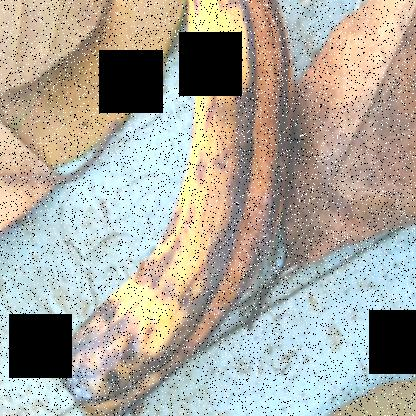rotten: (53, 0, 306, 407)
